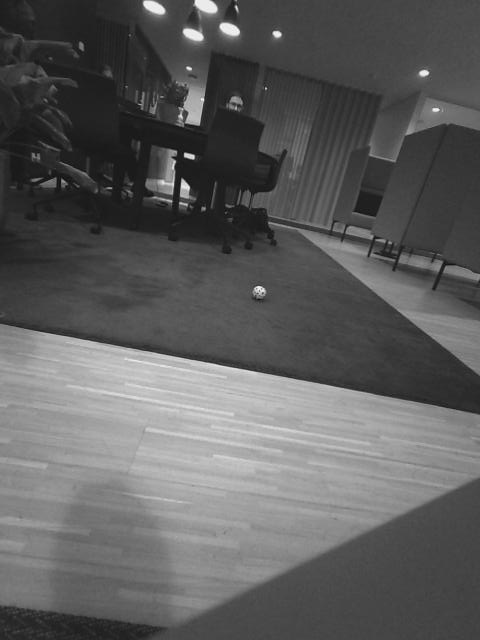dogtoy: (247, 282, 272, 305)
